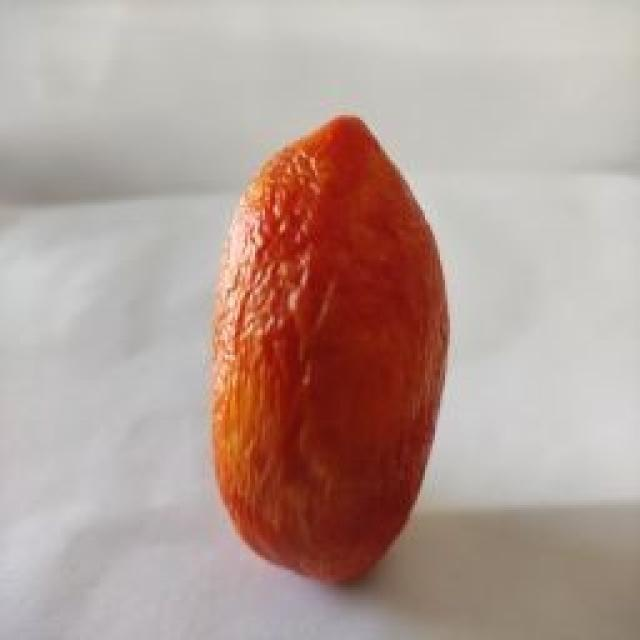overripe: (209, 110, 453, 588)
